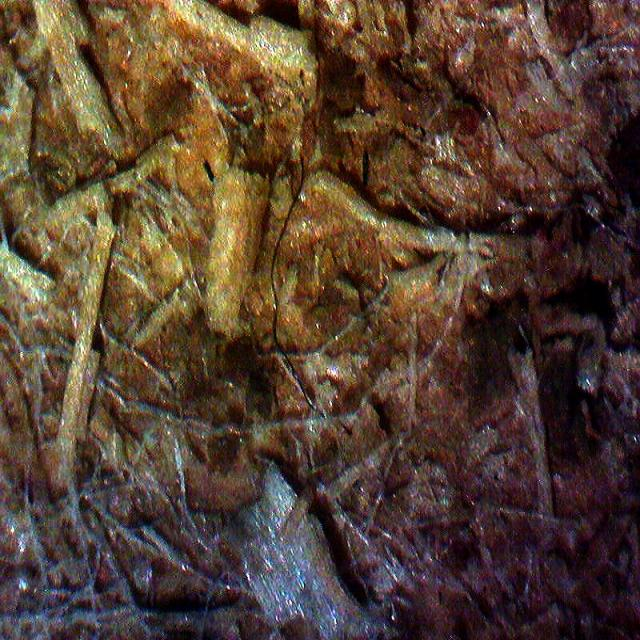microplastic: (269, 160, 350, 436)
